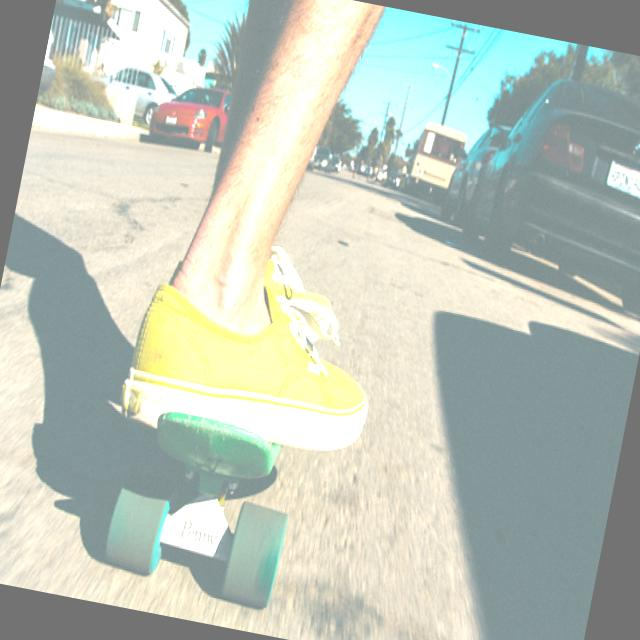Vehicle: (452, 64, 640, 320), (149, 78, 234, 155), (442, 122, 502, 230), (100, 63, 178, 128), (33, 20, 61, 121), (312, 148, 336, 172), (331, 156, 343, 172)
